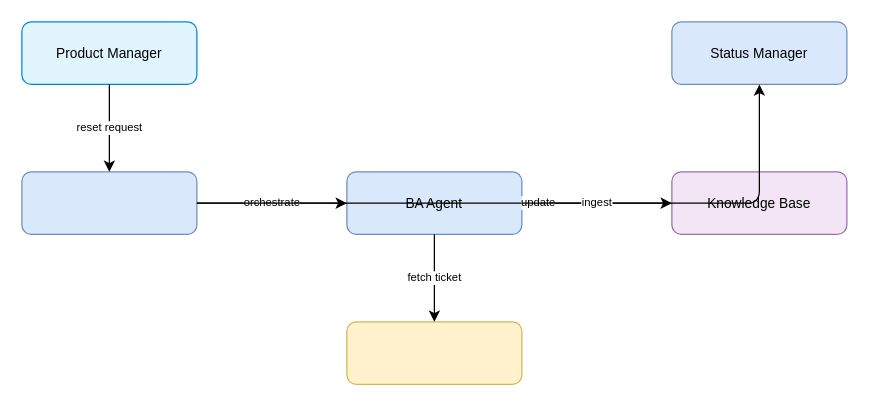
The diagram is 869 pixels wide and 406 high, and some of its shapes have lost their labels. Each missing label, with the box of its shape:
Jira: (346, 321, 522, 384)
Pipeline Controller: (21, 171, 197, 234)
